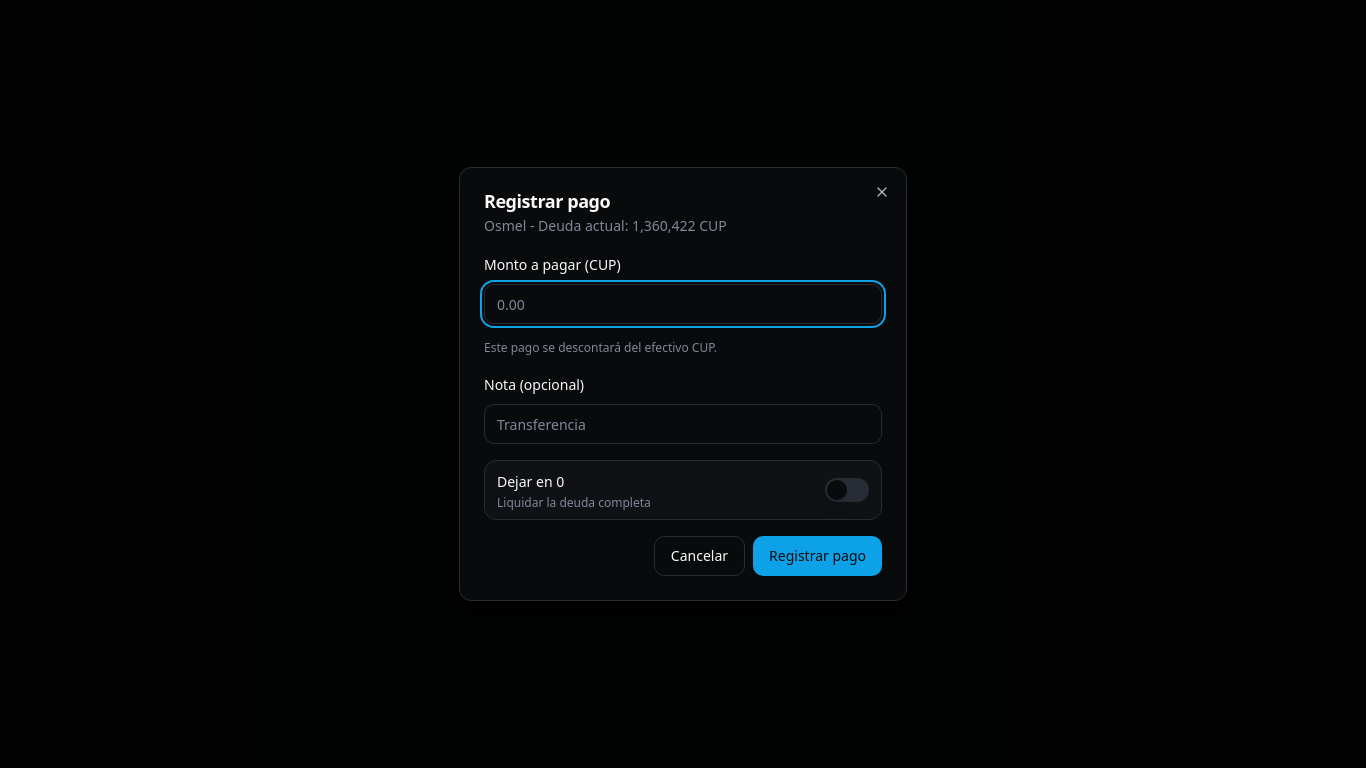
Test: CreateRemeseroPaymentDialog › formats the amount input with thousand separators while typing
Type "1360422" into the field labelled "Monto a pagar (CUP)" at (683, 304), box [484, 284, 882, 324]
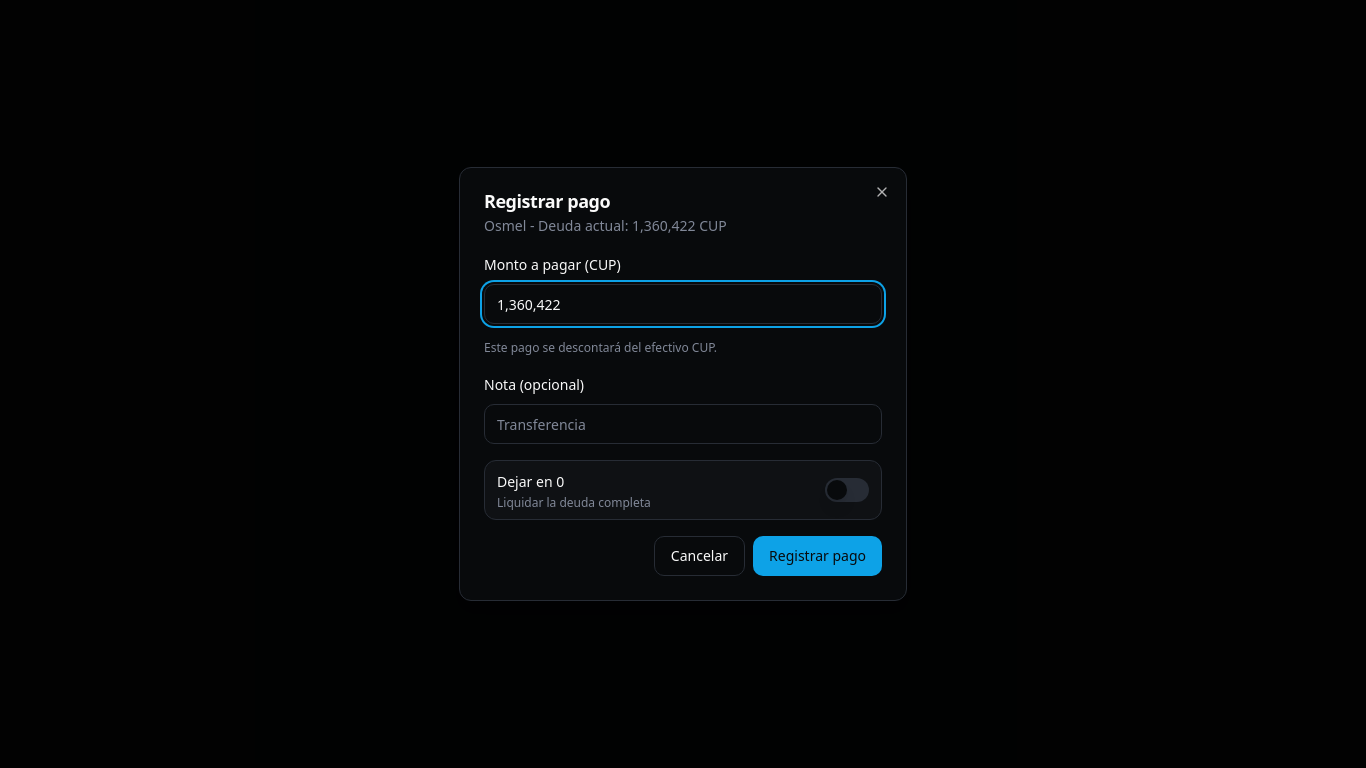
Now the field labelled "Monto a pagar (CUP)" holds "1,360,422", box [484, 284, 882, 324]
